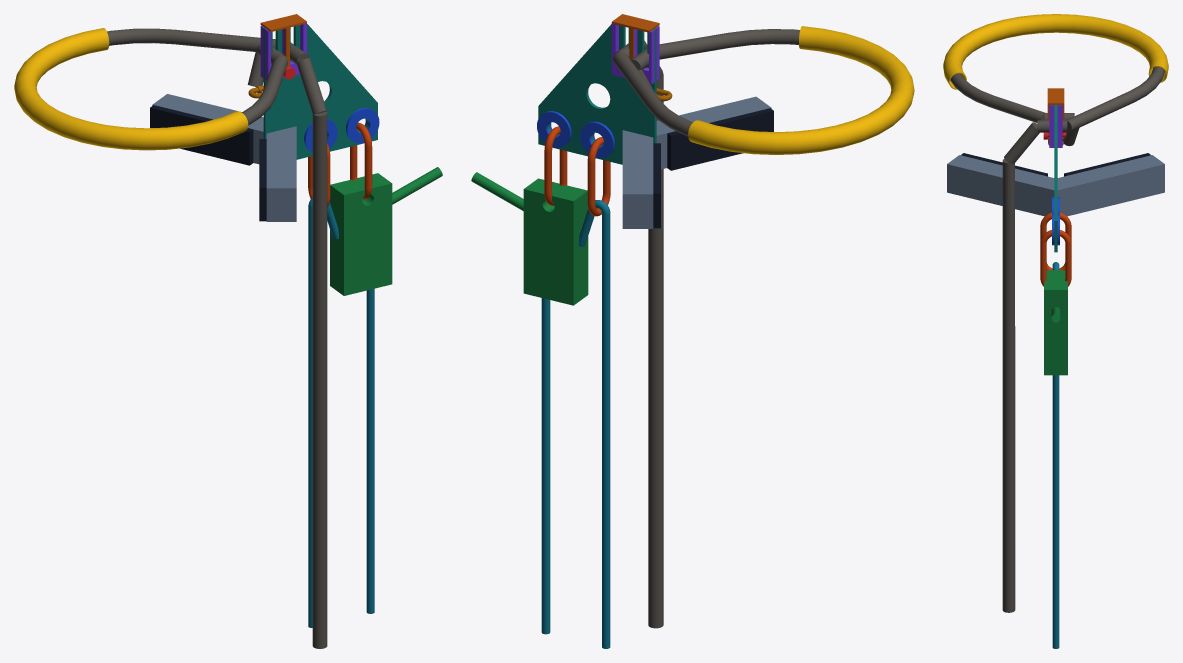
3 views of the same model, side by side, from view 1: azimuth 30°, elevation 25°; view 2: azimuth 150°, elevation 25°; view 3: azimuth 270°, elevation 25° (orthographic). The views are drawn at different scales.
Visible parts, largest first — view 1: Chain, grade 80, 6 mm (envelope), Chain sleeve, Auto-locking descender, Spine plate, Lowering rope, 11 mm, Bearing bars (2), Rubber bark pads (2), Carabiners (load, brake), Eye doubler rings (4), Cleat cheeks (2), Keeper; view 2: Chain, grade 80, 6 mm (envelope), Chain sleeve, Auto-locking descender, Lowering rope, 11 mm, Spine plate, Bearing bars (2), Rubber bark pads (2), Carabiners (load, brake), Eye doubler rings (4), Cleat cheeks (2), Keeper; view 3: Chain, grade 80, 6 mm (envelope), Bearing bars (2), Chain sleeve, Auto-locking descender, Lowering rope, 11 mm, Carabiners (load, brake), Rubber bark pads (2), Spine plate, Cleat cheeks (2), Keeper.
Boxes of the visible parts, box(x1,y1,x2,y2) form: Chain, grade 80, 6 mm (envelope): box(107, 28, 327, 648); Chain sleeve: box(14, 28, 248, 150); Auto-locking descender: box(330, 167, 442, 295); Spine plate: box(263, 24, 377, 159); Lowering rope, 11 mm: box(308, 197, 374, 627); Bearing bars (2): box(152, 94, 296, 221); Rubber bark pads (2): box(150, 105, 266, 221); Carabiners (load, brake): box(308, 122, 372, 206); Eye doubler rings (4): box(304, 108, 379, 152); Cleat cheeks (2): box(260, 23, 306, 80); Keeper: box(260, 14, 306, 67); Chain, grade 80, 6 mm (envelope): box(613, 29, 799, 628); Chain sleeve: box(688, 26, 914, 154); Auto-locking descender: box(471, 172, 588, 305); Lowering rope, 11 mm: box(541, 200, 610, 648); Spine plate: box(538, 24, 656, 164); Bearing bars (2): box(622, 96, 771, 228); Rubber bark pads (2): box(653, 108, 773, 228); Carabiners (load, brake): box(544, 126, 610, 216); Eye doubler rings (4): box(537, 111, 614, 158); Cleat cheeks (2): box(611, 22, 659, 84); Keeper: box(612, 14, 659, 59); Chain, grade 80, 6 mm (envelope): box(950, 66, 1165, 612); Bearing bars (2): box(947, 155, 1164, 216); Chain sleeve: box(943, 14, 1168, 89); Auto-locking descender: box(1044, 270, 1067, 375); Lowering rope, 11 mm: box(1052, 262, 1059, 648); Carabiners (load, brake): box(1040, 212, 1071, 286); Rubber bark pads (2): box(961, 153, 1150, 176); Spine plate: box(1054, 105, 1057, 252); Cleat cheeks (2): box(1049, 105, 1062, 147); Keeper: box(1047, 88, 1064, 139).
Size of the model in its own units: 0.6358 by 0.908 by 0.36.
